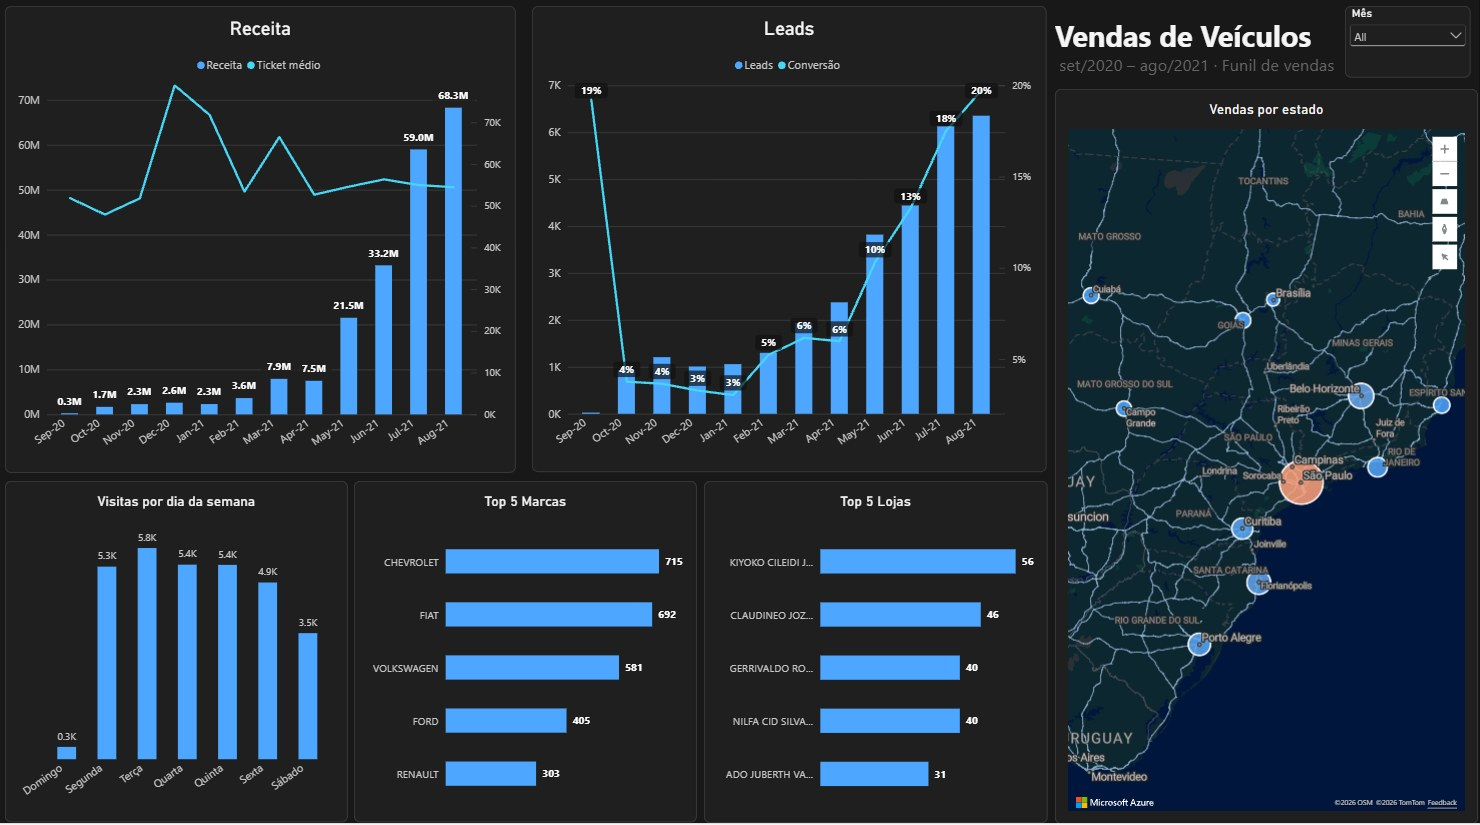

Layout of this report page (visuals, bound fields, positions):
{"tool":"powerbi","page":{"name":"Dashboard","canvas":[1920,1080],"ordinal":0},"visuals":[{"type":"lineClusteredColumnComboChart","title":"Receita ","fields":{"Category":["dim_calendar.month"],"Y":["# Medidas.Receita"],"Y2":["# Medidas.Ticket médio"]},"box":[7.1,19.7,662.9,605.8],"z":0},{"type":"lineClusteredColumnComboChart","title":"Leads ","fields":{"Category":["dim_calendar.month"],"Y":["# Medidas.Leads"],"Y2":["# Medidas.Conversão"]},"box":[692.5,20,667.5,605],"z":1000},{"type":"clusteredBarChart","title":"Top 5 Marcas","fields":{"Category":["dim_products.brand"],"Y":["# Medidas.Vendas"]},"box":[461,636.1,444.9,443.2],"z":2000},{"type":"clusteredBarChart","title":"Top 5 Lojas","fields":{"Category":["dim_stores.store_name"],"Y":["# Medidas.Vendas"]},"box":[914.9,636.1,445.5,443.5],"z":2001},{"type":"azureMap","title":"Vendas por estado","fields":{"Category":["dim_customers.state_location"],"Size":["# Medidas.Vendas"]},"box":[1370.6,126.9,548.6,954.2],"z":2002},{"type":"clusteredColumnChart","title":"Visitas por dia da semana","fields":{"Category":["dim_calendar.weekday"],"Y":["# Medidas.Visitas"]},"box":[7.1,636.1,444.9,443.2],"z":2003},{"type":"textbox","box":[1370.6,32.2,371.7,94.7],"z":2004},{"type":"slicer","fields":{"Values":["dim_calendar.month"]},"box":[1747,20,163,93],"z":2005}]}

Visuals, with their boxes in screenshot pixels (x1, y1, x2, y2), scaled from the page's 1920x1080 canvas onto the 1480x825 screenshot:
"Receita " lineClusteredColumnComboChart: x1=5 y1=15 x2=516 y2=478
"Leads " lineClusteredColumnComboChart: x1=534 y1=15 x2=1048 y2=477
"Top 5 Marcas" clusteredBarChart: x1=355 y1=486 x2=698 y2=824
"Top 5 Lojas" clusteredBarChart: x1=705 y1=486 x2=1049 y2=824
"Vendas por estado" azureMap: x1=1057 y1=97 x2=1479 y2=824
"Visitas por dia da semana" clusteredColumnChart: x1=5 y1=486 x2=348 y2=824
textbox: x1=1057 y1=25 x2=1343 y2=97
slicer - dim_calendar.month: x1=1347 y1=15 x2=1472 y2=86
